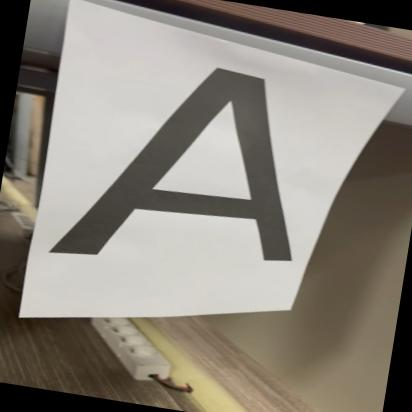seat: (46, 30, 332, 300)
